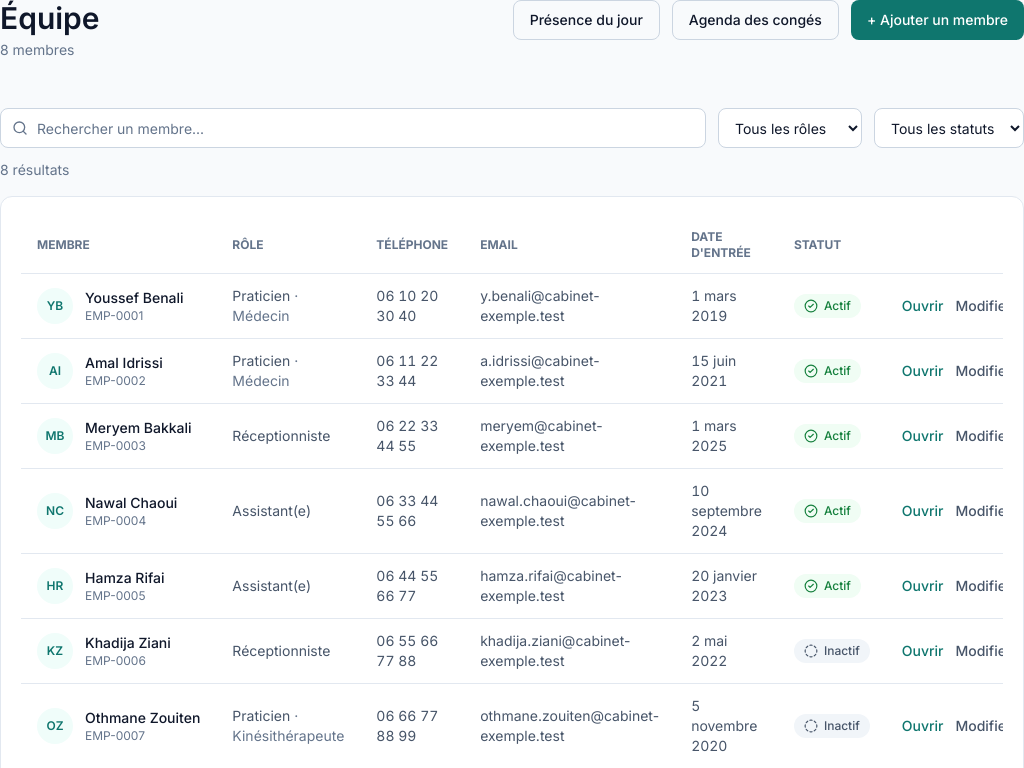
Test: TeamPage › filters by status (22)
This screenshot has width=1024, height=768.
Select "Inactif" in the dropdown named "Statut": (949, 128) top-left (874, 108), bottom-right (1023, 148)
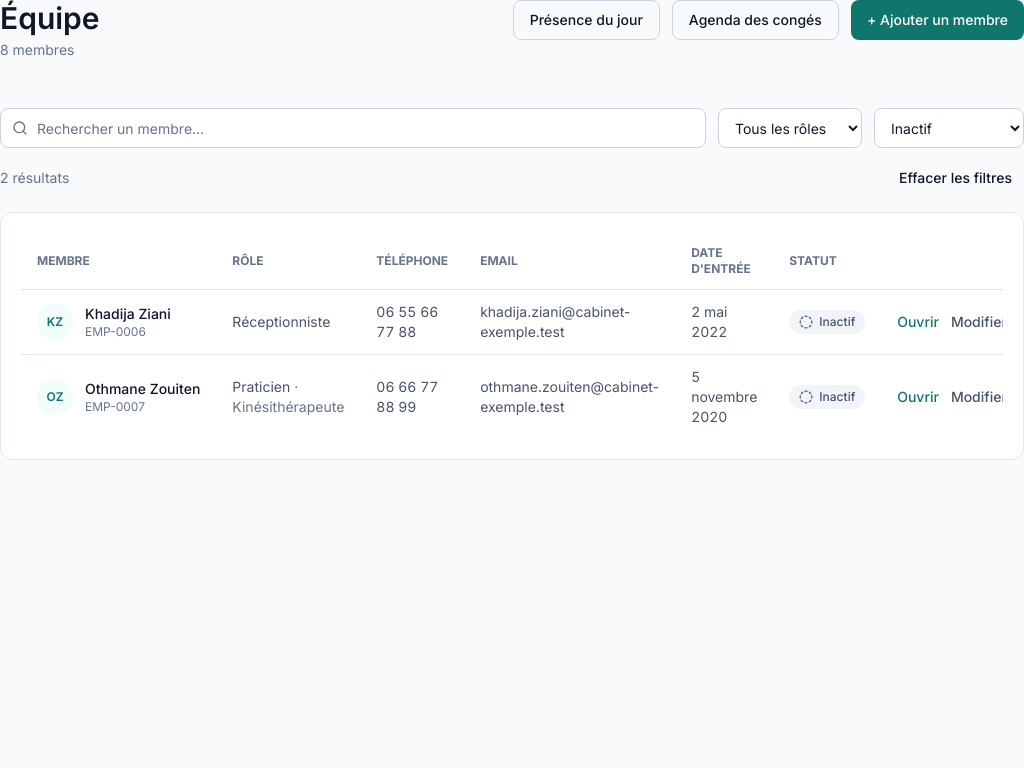
Expected: the text "Khadija Ziani" is shown, top-left (85, 304), bottom-right (171, 324)
Result: the text "Youssef Benali" is gone
